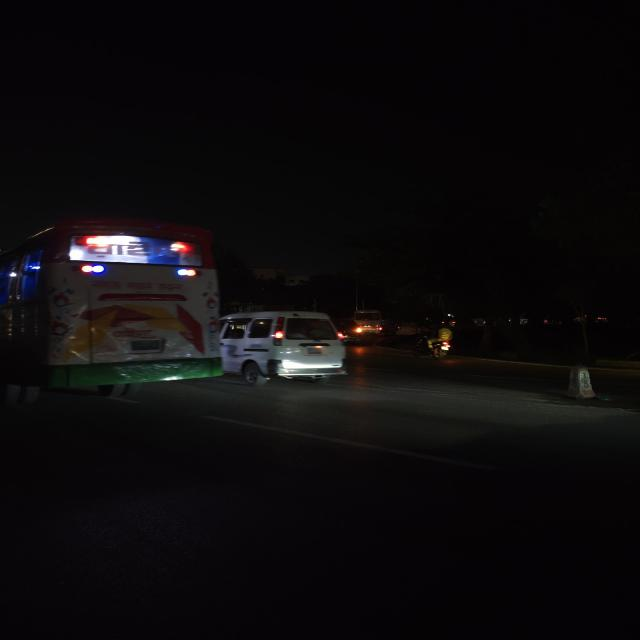bus: (0, 216, 226, 400)
car: (220, 310, 350, 390)
cng: (352, 308, 391, 337)
motorcycle: (412, 320, 458, 362)
